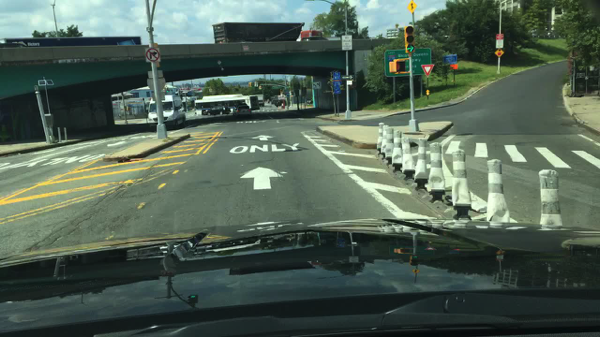bus: (0, 36, 141, 48), (194, 94, 260, 115)
car: (147, 95, 186, 133), (206, 106, 230, 116), (235, 105, 251, 117), (273, 99, 291, 107), (230, 107, 236, 113), (307, 98, 313, 104), (268, 98, 274, 103), (270, 100, 277, 104), (376, 37, 386, 39)
traffic light: (404, 26, 414, 54), (389, 60, 406, 73), (166, 88, 169, 94), (250, 82, 253, 87), (248, 82, 250, 88), (259, 87, 261, 91), (210, 89, 212, 93), (260, 87, 262, 90)
traffic sign: (383, 48, 431, 76), (147, 78, 166, 90), (146, 49, 161, 62), (420, 65, 434, 77), (341, 36, 352, 51), (441, 55, 456, 65), (406, 1, 418, 13), (151, 92, 165, 101), (495, 34, 503, 49), (147, 72, 163, 78), (341, 75, 354, 80), (333, 72, 340, 81), (312, 82, 321, 89), (494, 50, 503, 57), (333, 87, 340, 95), (333, 82, 341, 88), (450, 64, 458, 69), (425, 89, 430, 96), (154, 63, 160, 68), (151, 43, 158, 47), (244, 46, 249, 51), (346, 81, 352, 85), (272, 86, 280, 89), (254, 82, 258, 87), (217, 61, 221, 65), (286, 94, 289, 97), (286, 90, 288, 94)
truck: (212, 23, 327, 42), (255, 94, 264, 106)
